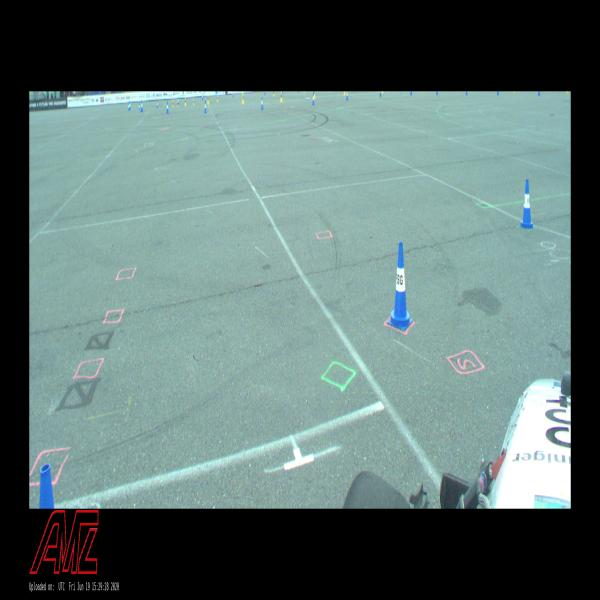blue_cone: (387, 242, 412, 331), (519, 179, 535, 230), (260, 97, 264, 110), (166, 101, 169, 114), (204, 100, 207, 113), (312, 94, 315, 106), (141, 101, 143, 112), (379, 91, 382, 97), (346, 92, 348, 100), (128, 103, 130, 110), (202, 94, 204, 100), (130, 101, 131, 110), (157, 101, 158, 108), (139, 103, 140, 110), (233, 91, 234, 97), (178, 98, 179, 104), (264, 92, 266, 95)
yellow_cone: (280, 92, 283, 102), (207, 94, 210, 104), (184, 96, 186, 106), (242, 94, 244, 104), (172, 99, 174, 108), (193, 99, 195, 106), (217, 96, 219, 102), (314, 92, 316, 98), (273, 92, 275, 97), (177, 100, 178, 107)
